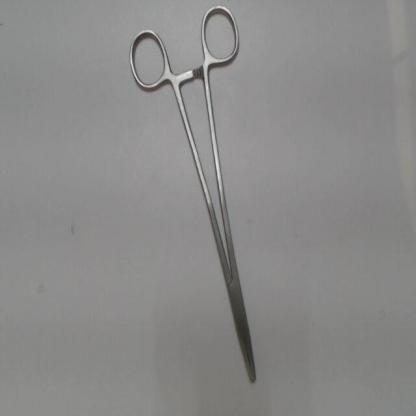8 Mayo Needle Holder: (123, 3, 266, 398)
